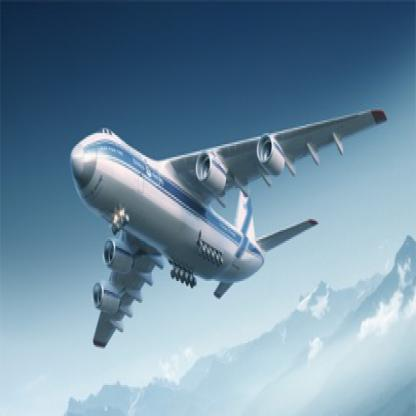CIV_Plane: (66, 96, 387, 363)
